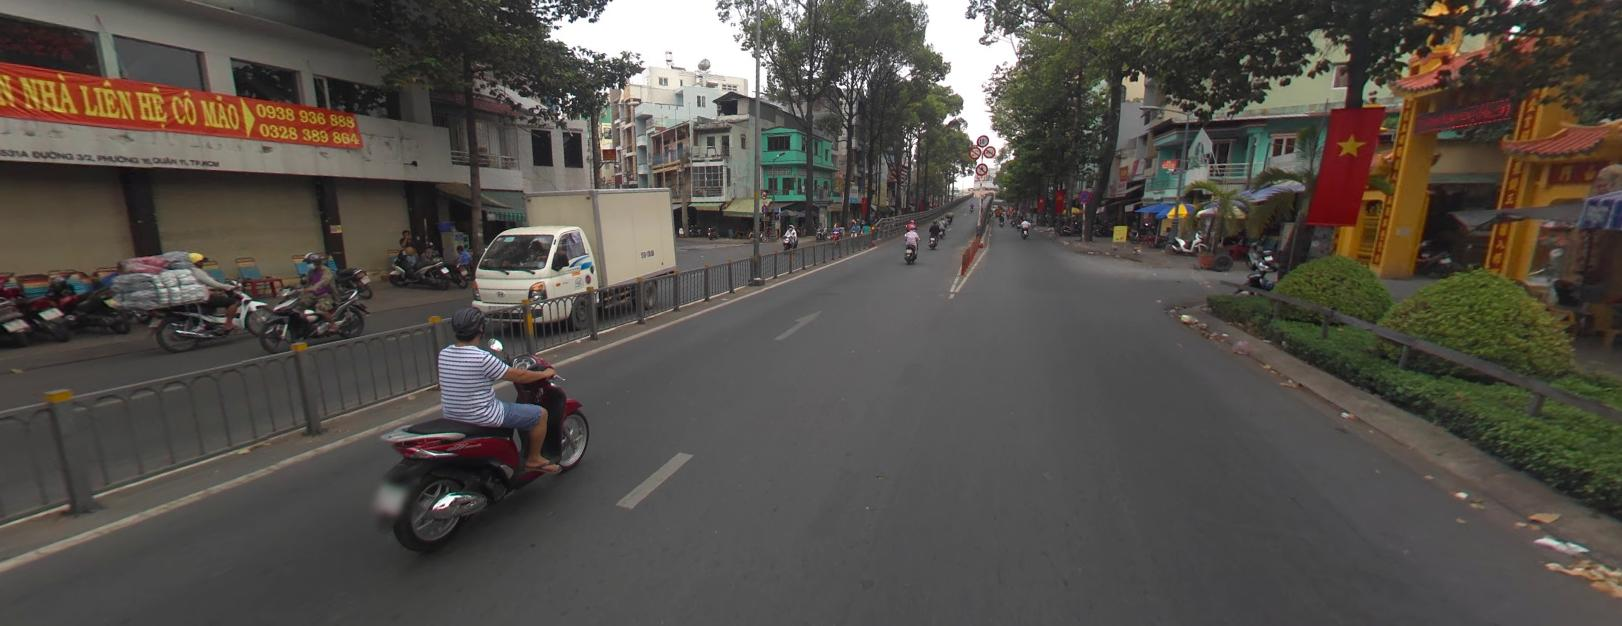Cam con lai: (969, 145, 981, 158), (983, 145, 994, 157), (968, 146, 980, 158), (975, 162, 987, 174), (983, 145, 994, 156), (977, 135, 988, 146), (975, 162, 986, 174), (977, 135, 988, 145), (761, 189, 767, 197), (761, 190, 765, 198)
Cam dung va do: (1077, 189, 1090, 201), (1078, 189, 1090, 201), (761, 202, 767, 211), (761, 203, 765, 212)
